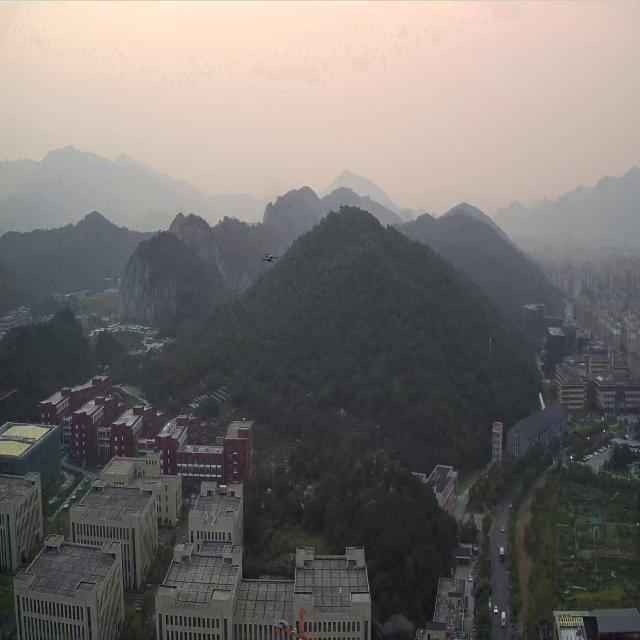UAV: (259, 250, 279, 264)
